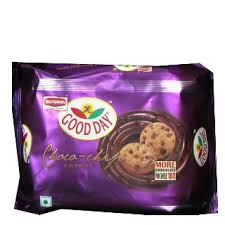gooday-mediuml-choco: (9, 60, 215, 216)
